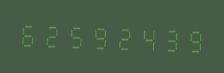five: (63, 18, 85, 52)
four: (132, 20, 154, 54)
nine: (178, 22, 200, 56), (86, 19, 108, 52)
six: (17, 16, 39, 50)
three: (155, 21, 177, 55)
two: (40, 17, 62, 51), (109, 19, 131, 53)
